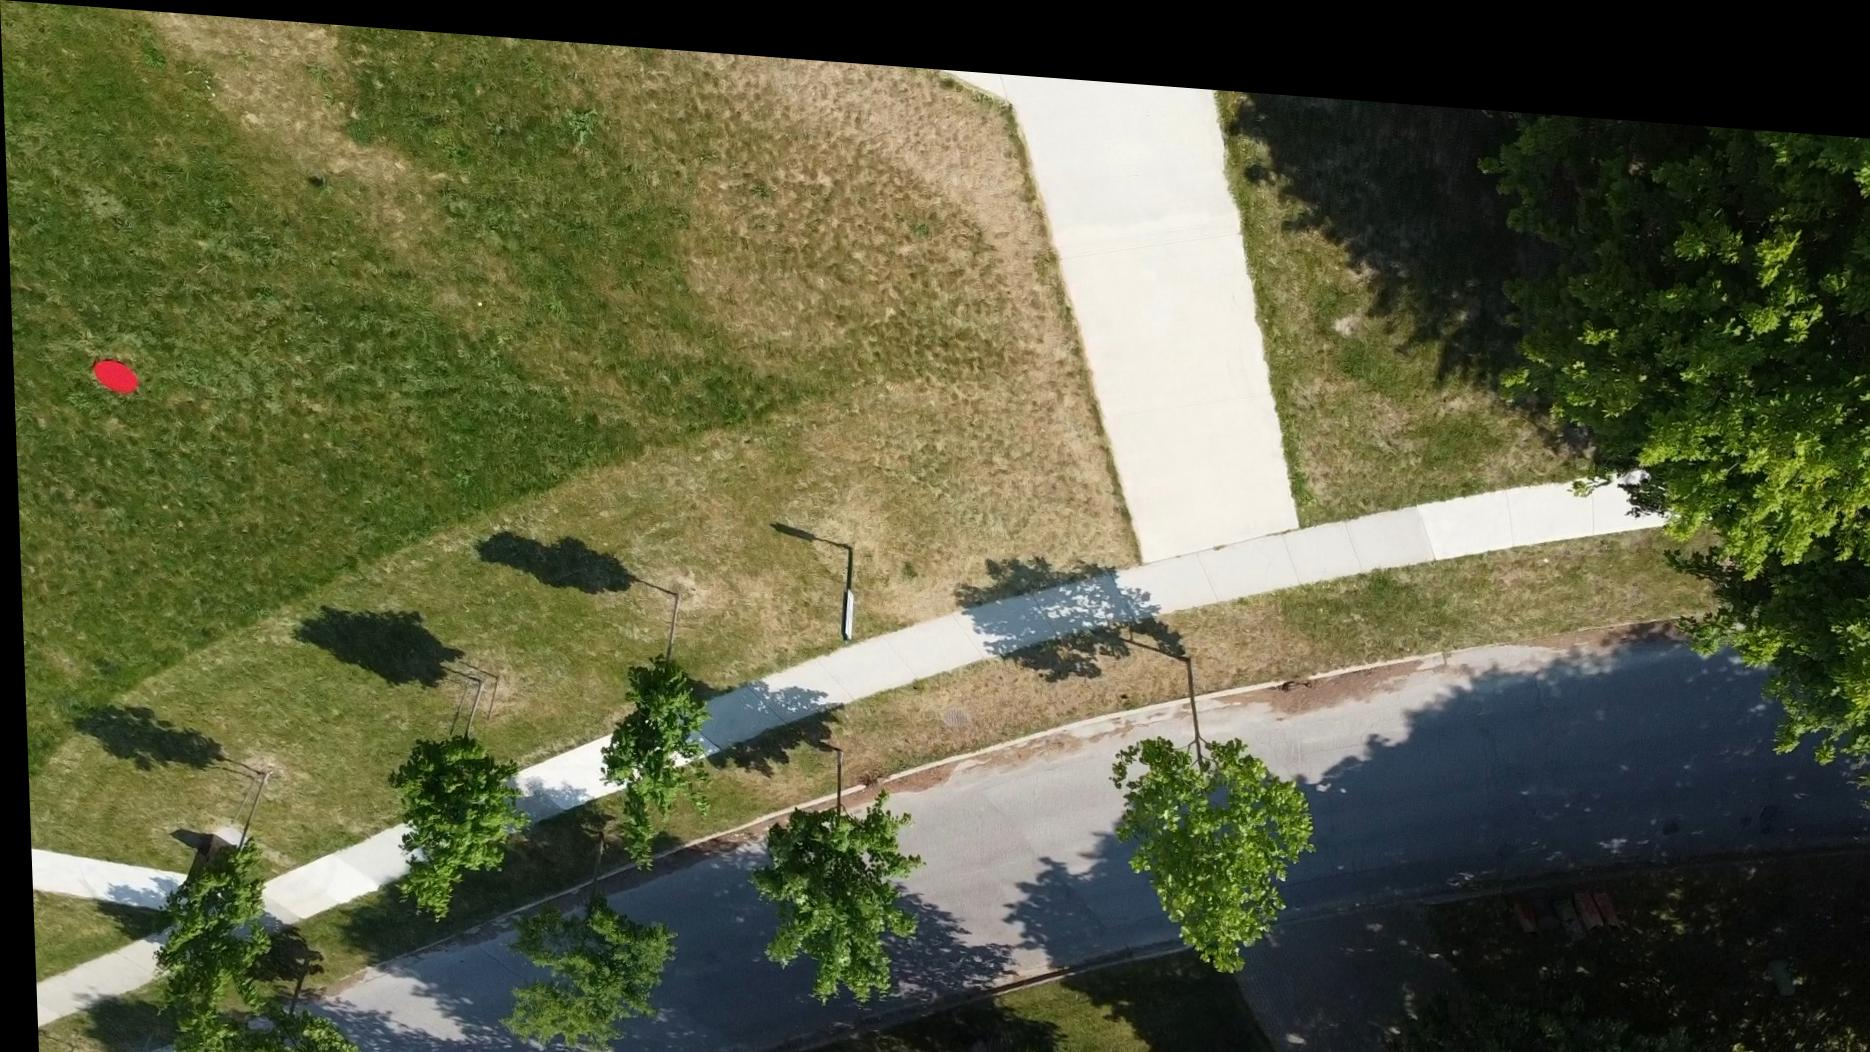Red: (90, 356, 137, 394)
